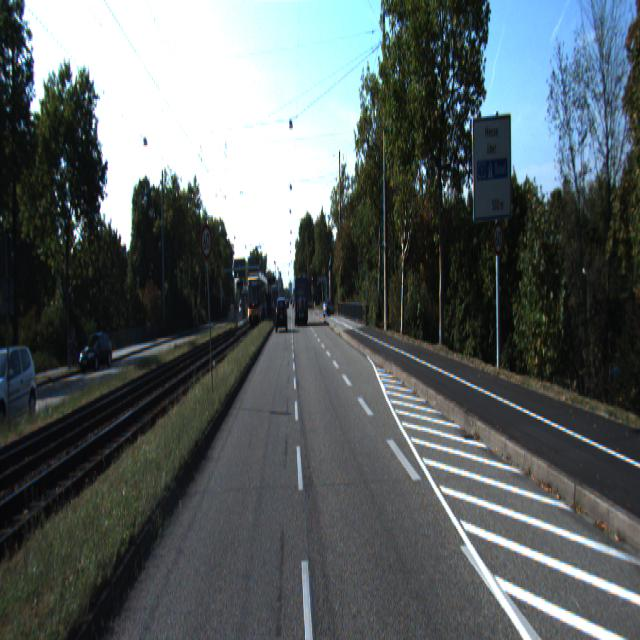Car: (0, 338, 43, 435), (78, 330, 114, 375), (246, 274, 267, 328), (294, 276, 309, 326), (276, 298, 288, 332)
